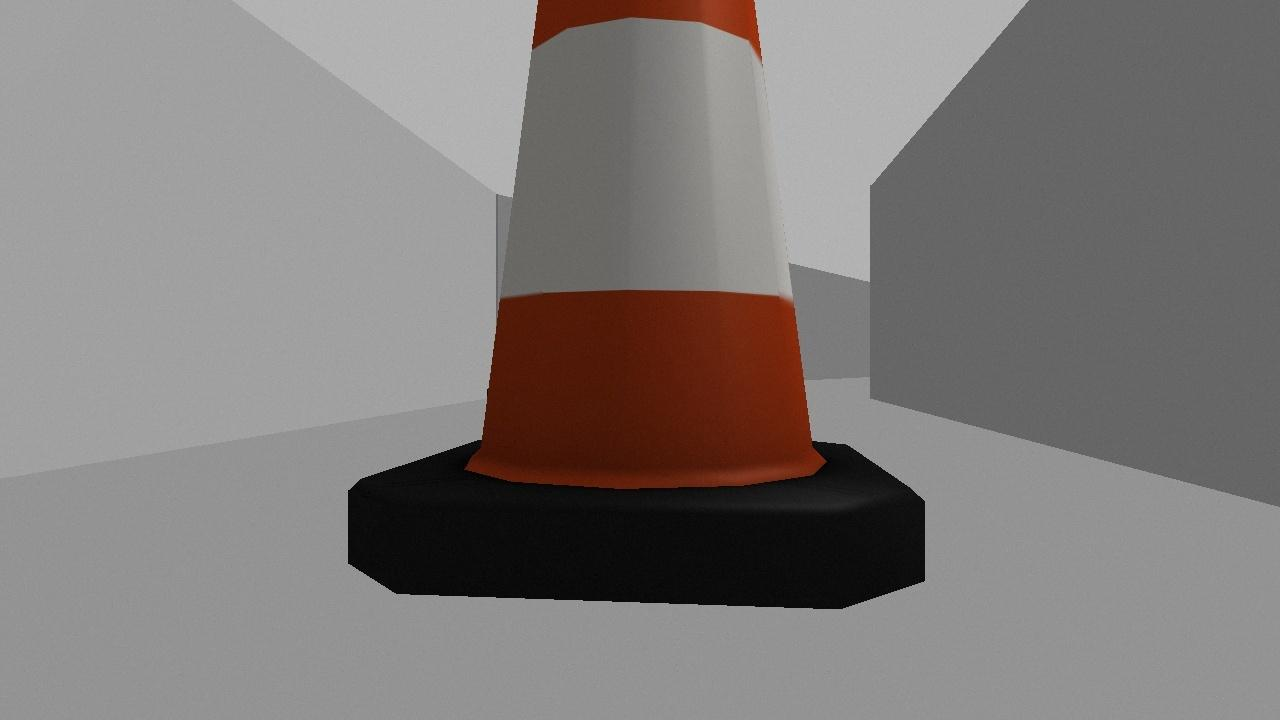cone_barrel: (347, 0, 926, 610)
